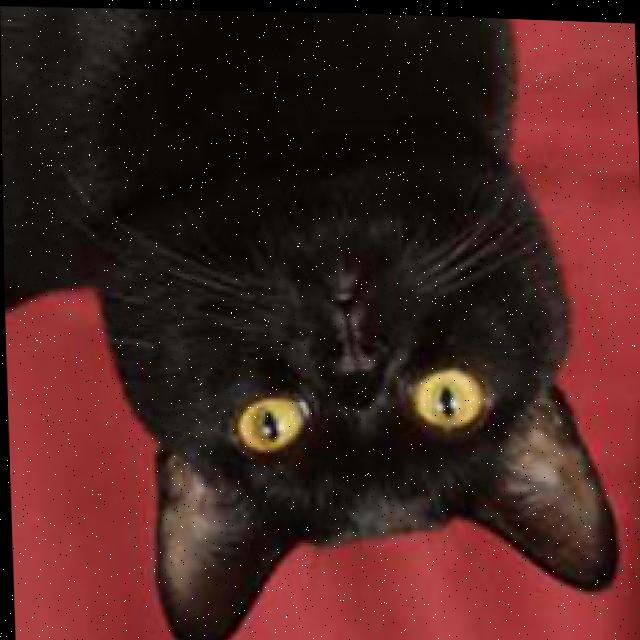Bombay: (0, 0, 625, 640)
